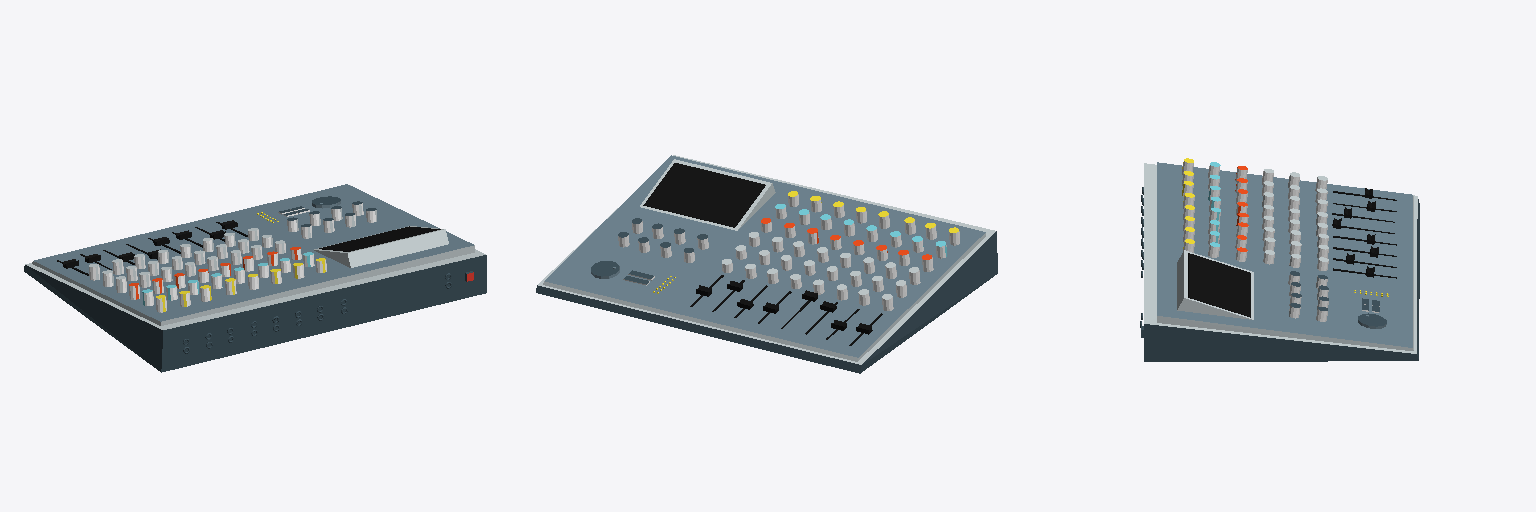
The picture shows the model from 3 angles: view 1: azimuth 30°, elevation 25°; view 2: azimuth 150°, elevation 25°; view 3: azimuth 270°, elevation 25°; orthographic projection.
Visible parts, largest first — view 1: group[number redacted], group[number redacted], group[number redacted], group[number redacted]; view 2: group[number redacted], group[number redacted], group[number redacted], group[number redacted]; view 3: group[number redacted], group[number redacted], group[number redacted], group[number redacted].
Boxes of the visible parts, <box> form: group[number redacted]: <box>32,184,474,325</box>; group[number redacted]: <box>24,185,486,372</box>; group[number redacted]: <box>314,226,448,267</box>; group[number redacted]: <box>319,226,440,251</box>; group[number redacted]: <box>543,155,985,361</box>; group[number redacted]: <box>536,155,997,373</box>; group[number redacted]: <box>643,163,765,227</box>; group[number redacted]: <box>640,159,775,230</box>; group[number redacted]: <box>1157,162,1413,350</box>; group[number redacted]: <box>1144,163,1419,361</box>; group[number redacted]: <box>1188,253,1250,317</box>; group[number redacted]: <box>1177,250,1253,319</box>.
Bounding box in the file's own units: 3.44 × 0.5546 × 2.57.